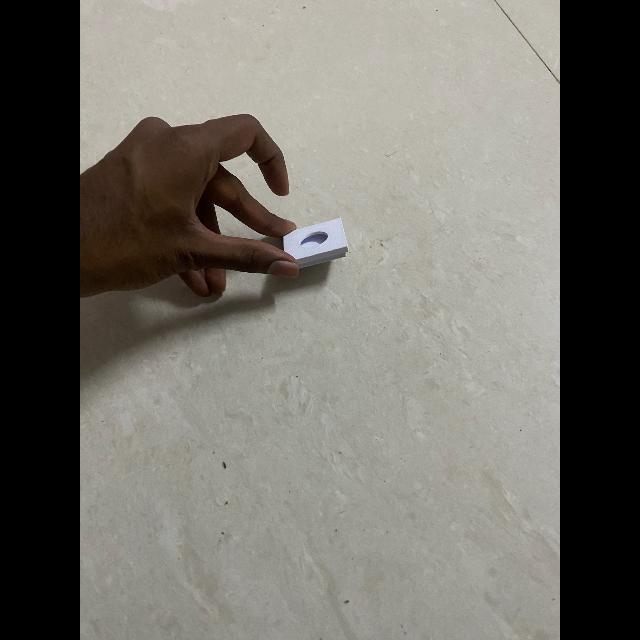RASPBERY PI CAM ENCLOSURE: (282, 218, 348, 268)
